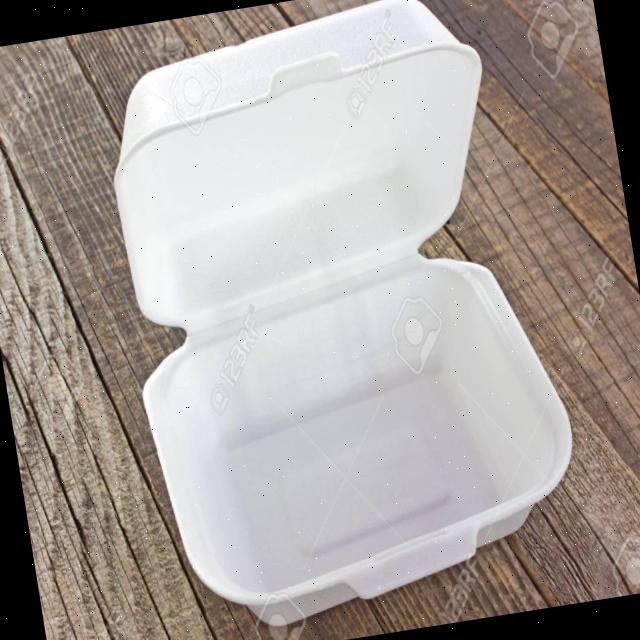styrofoam: (85, 0, 596, 640)
